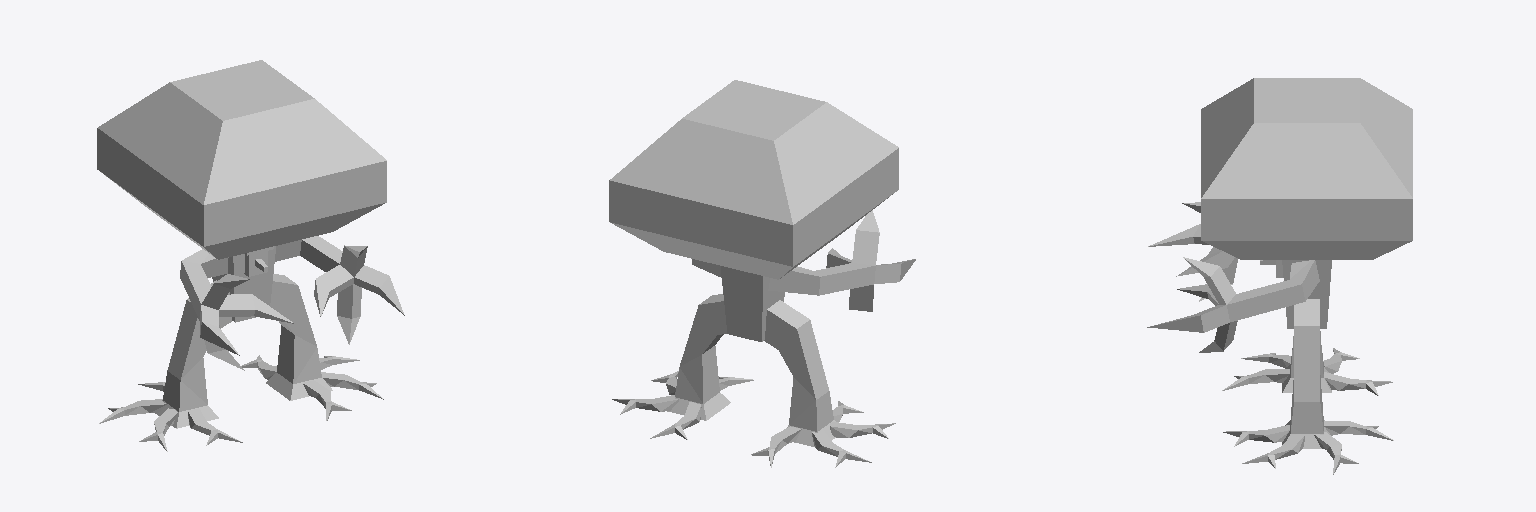
File: trent.obj
3 views of the same model, side by side, from view 1: azimuth 30°, elevation 25°; view 2: azimuth 150°, elevation 25°; view 3: azimuth 270°, elevation 25° (orthographic).
Visible parts, largest first — view 1: Body, LeftLeg, RightLeg, LeftArm, RightArm, Head; view 2: Body, RightLeg, LeftLeg, RightArm; view 3: Body, LeftLeg, LeftArm, RightLeg, RightArm.
Part boxes in pixels (left/top/right/bottom): Body: left=97, top=60, right=386, bottom=322; LeftLeg: left=237, top=274, right=383, bottom=420; RightLeg: left=99, top=280, right=242, bottom=451; LeftArm: left=275, top=236, right=404, bottom=344; RightArm: left=180, top=249, right=293, bottom=370; Head: left=244, top=246, right=273, bottom=276; Body: left=609, top=80, right=898, bottom=341; RightLeg: left=751, top=300, right=895, bottom=467; LeftLeg: left=612, top=294, right=753, bottom=439; RightArm: left=768, top=210, right=915, bottom=311; Body: left=1201, top=78, right=1412, bottom=328; LeftLeg: left=1223, top=299, right=1393, bottom=474; LeftArm: left=1147, top=257, right=1319, bottom=352; RightLeg: left=1222, top=331, right=1392, bottom=395; RightArm: left=1148, top=202, right=1237, bottom=301.
Size of the model in its own units: 9.25 by 10.43 by 8.1.